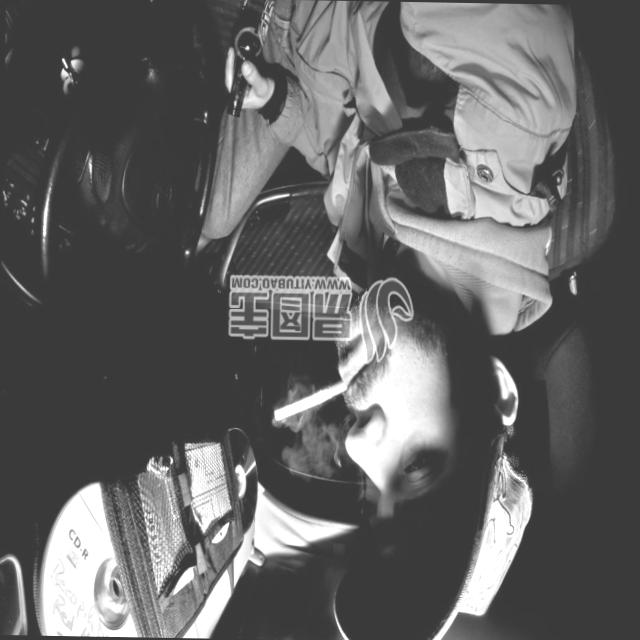cigarette: (272, 373, 345, 422)
